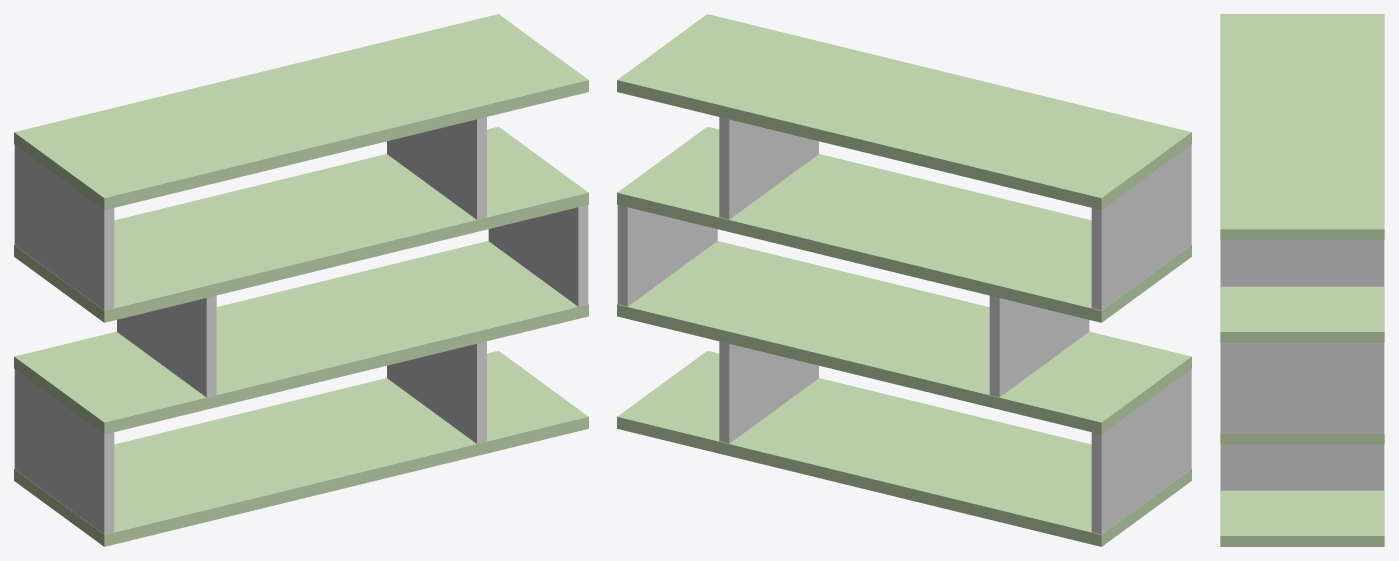
The model's file is BigBox.dae.
3 views of the same model, side by side, from view 1: azimuth 30°, elevation 25°; view 2: azimuth 150°, elevation 25°; view 3: azimuth 270°, elevation 25° (orthographic). The views are drawn at different scales.
Visible parts, largest first — view 1: tablon_estante_superior_001, tablon_estante_superior_005, tablon_estante_superior_006, tablon_estante_superior_000, tablon_estante_superior_002, tablon_estante_superior_003, tablon_estante_superior_004; view 2: tablon_estante_superior_001, tablon_estante_superior_005, tablon_estante_superior_006, tablon_estante_superior_000, tablon_estante_superior_002, tablon_estante_superior_003, tablon_estante_superior_004; view 3: tablon_estante_superior_001, tablon_estante_superior_003, tablon_estante_superior_000, tablon_estante_superior_002.
Boxes of the visible parts, x1,y1,x2,y2 form: tablon_estante_superior_001: [14, 14, 588, 546]; tablon_estante_superior_005: [14, 145, 114, 310]; tablon_estante_superior_006: [14, 369, 114, 534]; tablon_estante_superior_000: [387, 117, 486, 219]; tablon_estante_superior_002: [387, 341, 486, 443]; tablon_estante_superior_003: [488, 205, 588, 306]; tablon_estante_superior_004: [117, 295, 216, 397]; tablon_estante_superior_001: [617, 14, 1191, 546]; tablon_estante_superior_005: [1091, 144, 1191, 310]; tablon_estante_superior_006: [1091, 369, 1191, 534]; tablon_estante_superior_000: [719, 117, 818, 219]; tablon_estante_superior_002: [719, 341, 818, 443]; tablon_estante_superior_003: [617, 205, 717, 306]; tablon_estante_superior_004: [989, 295, 1089, 397]; tablon_estante_superior_001: [1220, 14, 1384, 546]; tablon_estante_superior_003: [1220, 343, 1383, 433]; tablon_estante_superior_000: [1220, 240, 1383, 286]; tablon_estante_superior_002: [1220, 444, 1383, 490].
Bounding box in the file's own units: 2.97 × 0.9573 × 2.04.
